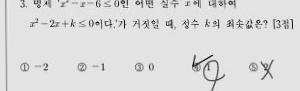choice: (190, 57, 202, 73)
not-choice: (18, 61, 30, 73), (75, 60, 87, 72), (247, 61, 258, 72), (132, 61, 144, 71)
